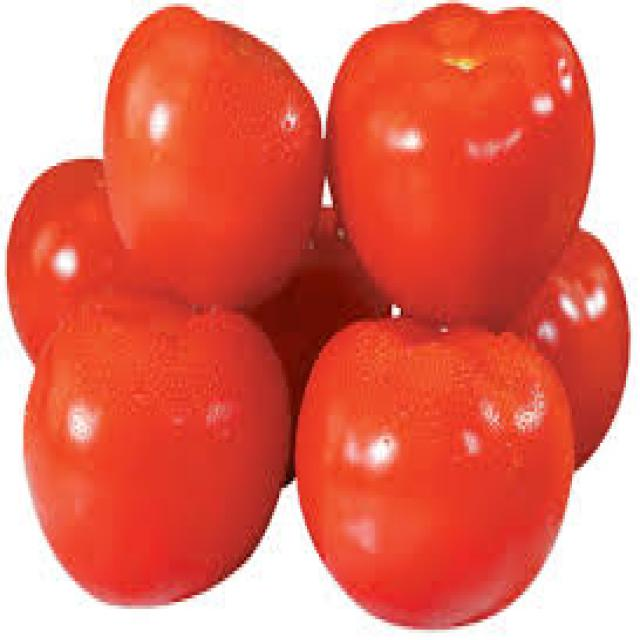Fresh_tomato: (329, 21, 587, 327), (22, 302, 288, 584), (308, 327, 556, 610), (108, 8, 322, 296)
